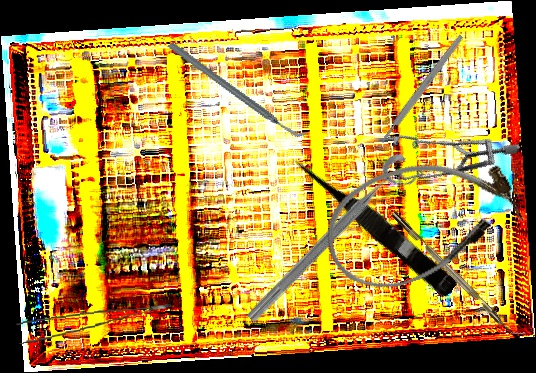Cannula: (310, 137, 533, 304)
Chopper: (166, 6, 309, 173), (390, 204, 527, 345)
Fixation Ring: (242, 150, 423, 336)
Micro Scissor: (287, 147, 462, 299)
Scalpel Handle: (378, 33, 465, 145)
Speculum: (375, 91, 521, 226)
Tissue Forceps: (15, 304, 174, 344)
